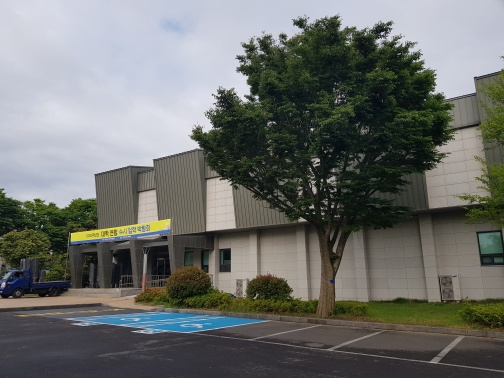Gym: (75, 81, 498, 324), (88, 144, 220, 242), (63, 239, 213, 297)
